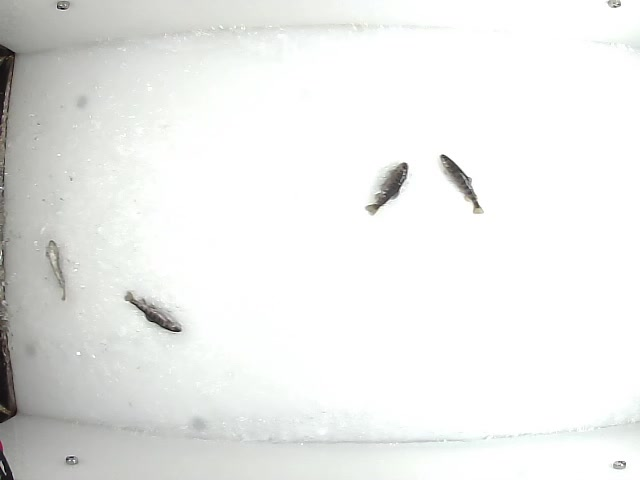fish: (438, 152, 487, 217), (121, 289, 185, 334), (364, 160, 410, 215), (45, 236, 70, 303)
